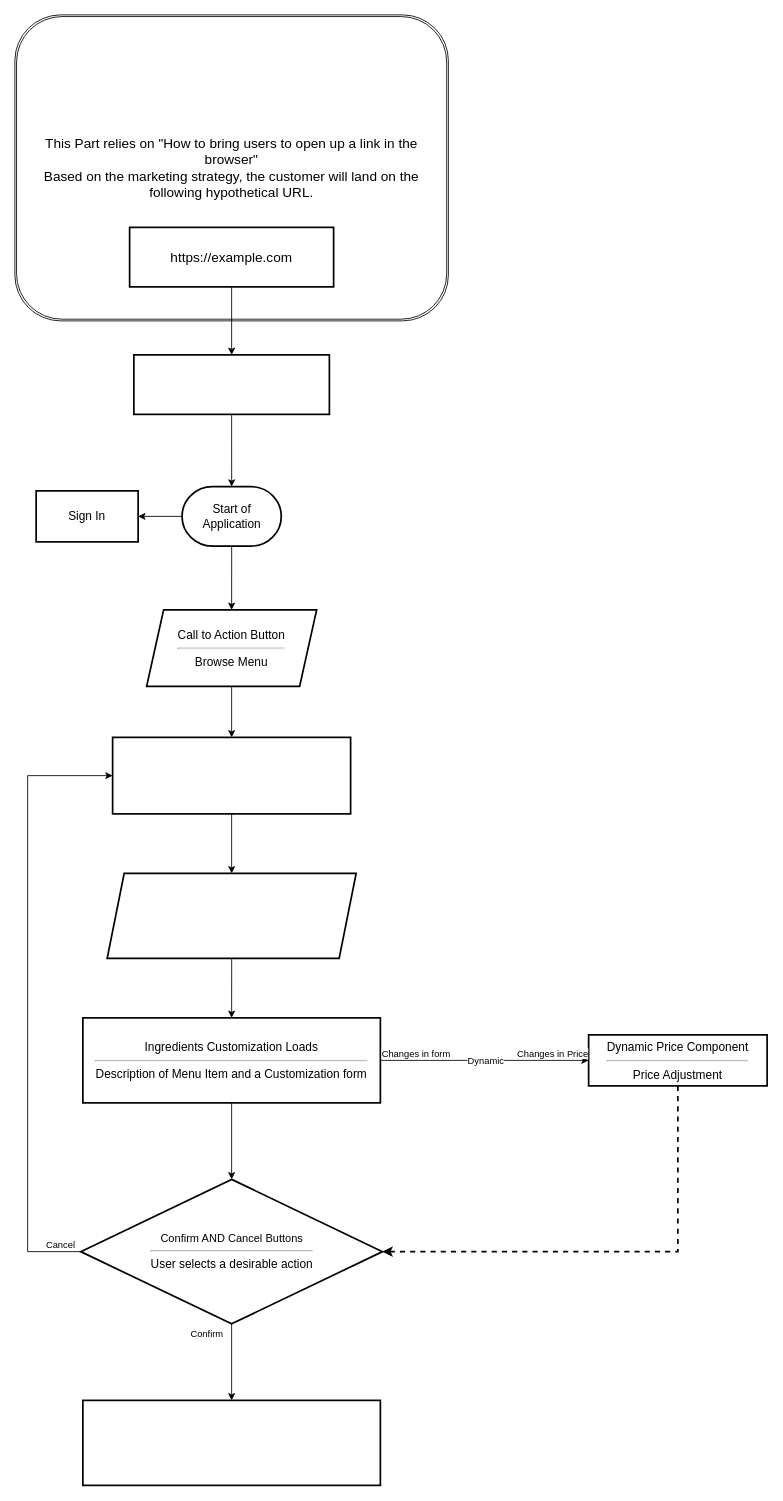
The diagram is 783 pixels wide and 1501 high, and some of its shapes have lost their labels. The shapes that lost their labels are listed below. From the top down, each one's centre as x and y in pixels, then its label:
At (x=231, y=384): "Page Loads Landing Page".
At (x=231, y=775): "Menu Loads List of Categorized Menu Items".
At (x=231, y=915): "Selectable Menu Item User Selects a desirable menu item".
At (x=231, y=1442): "Customized Menu Item Added to Cart Cart Icon Highlighted with Number of Items".
